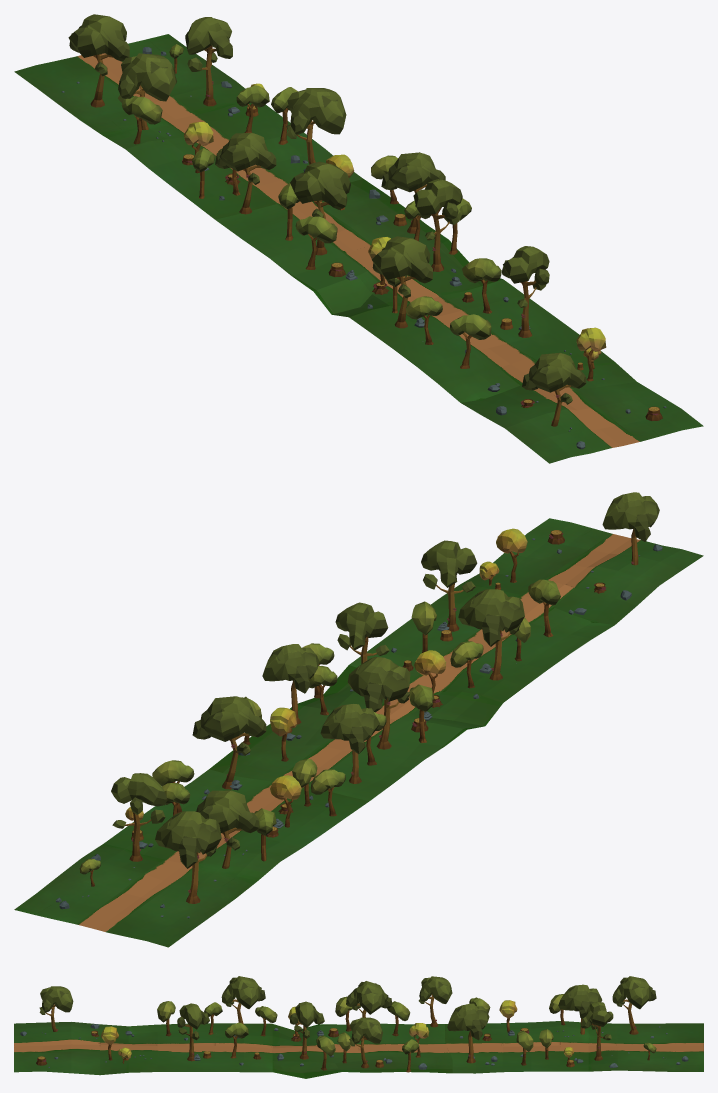
Rendered from cenario1.fbx.
3 views of the same model, one above another, from view 1: azimuth 30°, elevation 25°; view 2: azimuth 150°, elevation 25°; view 3: azimuth 270°, elevation 25° (orthographic). The views are drawn at different scales.
Visible parts, largest first — view 1: Arvore.022; view 2: Arvore.022; view 3: Arvore.022.
Boxes of the visible parts, x1,y1,x2,y2 form: Arvore.022: [14, 14, 703, 463]; Arvore.022: [14, 492, 703, 947]; Arvore.022: [14, 976, 703, 1078].
Bounding box in the file's own units: 1069 × 6001 × 621.
1 material, 1 textured.
